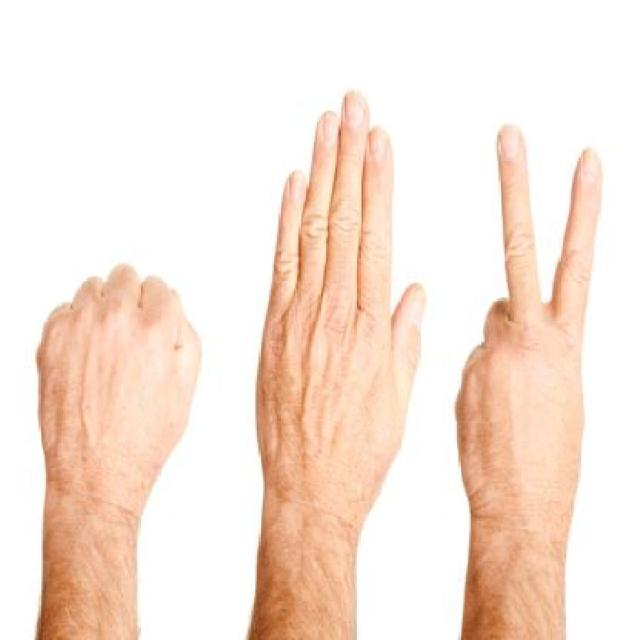Paper: (447, 101, 640, 534)
Rock: (27, 264, 218, 509)
Scissors: (232, 63, 442, 567)
